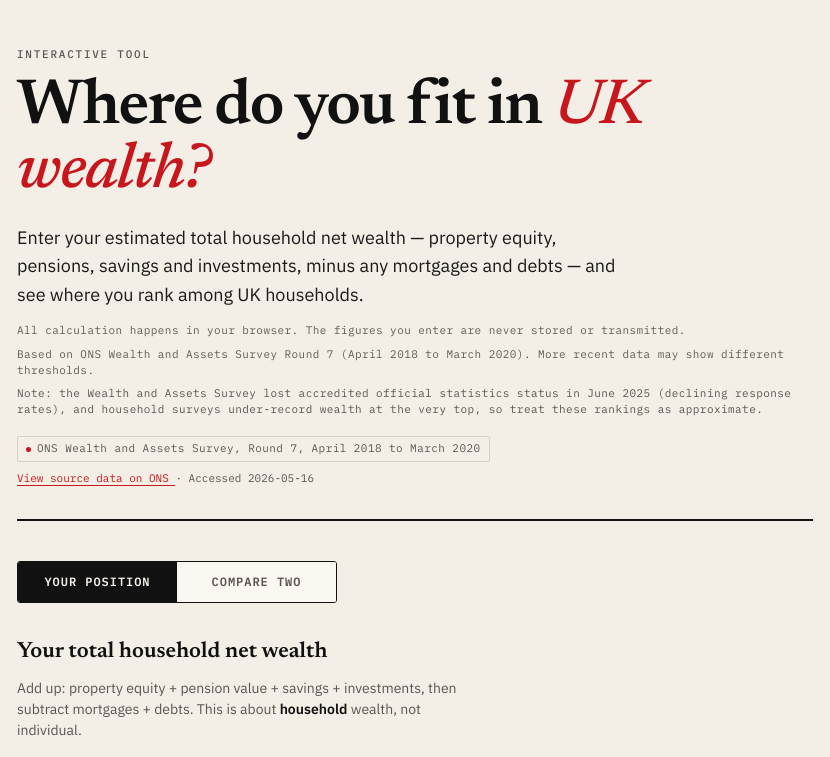
WealthCalculator — compare mode results › shows correct comparison summary for different deciles
The image size is (830, 757).
Click the tab with id "tab-compare": (256, 582) [177, 562, 336, 602]
(page scrolled)
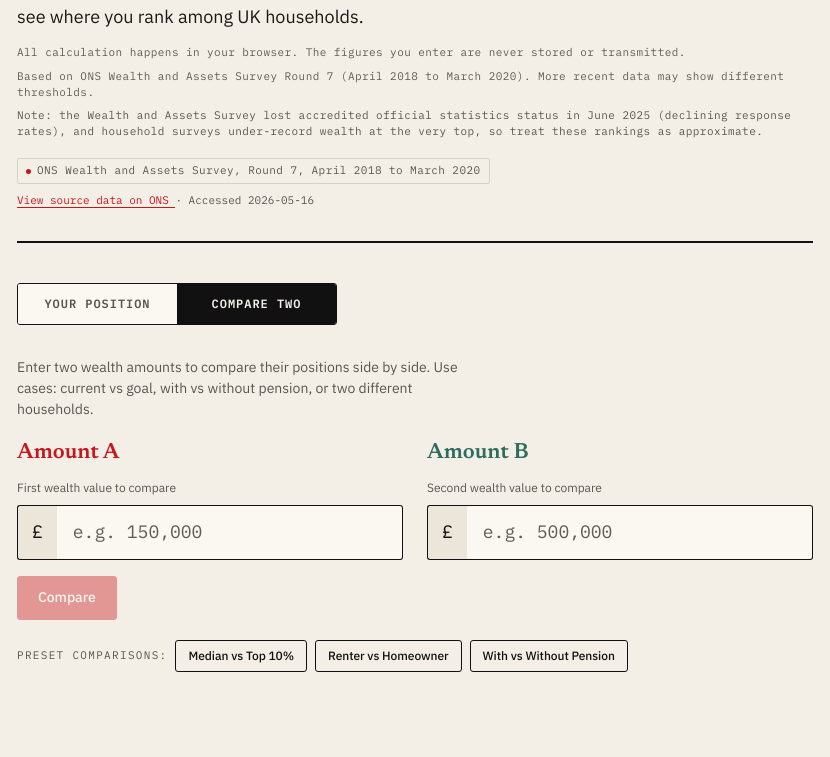
In the field with id "compare-input-a": (230, 532) [57, 505, 403, 560], type "100000"
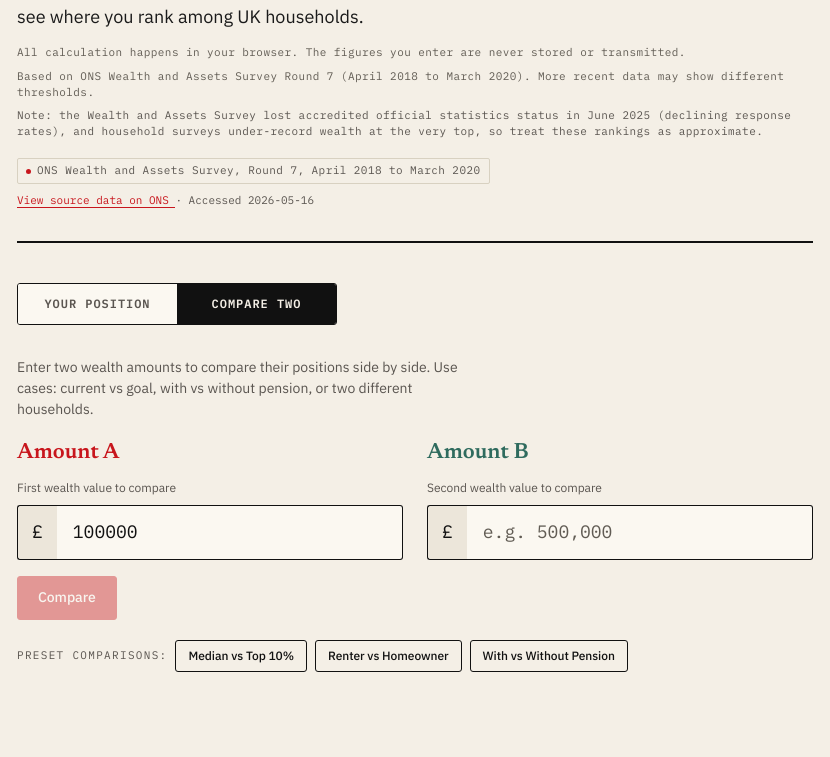
In the field with id "compare-input-b": (640, 532) [467, 505, 813, 560], type "500000"
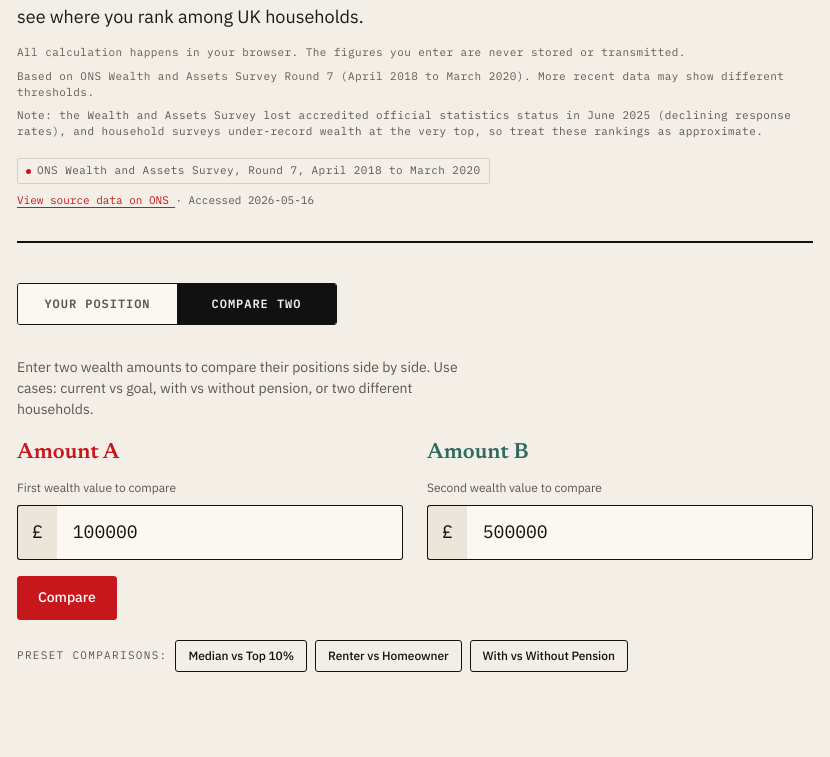
Click the button with class "calc__btn--compare": (67, 598) [17, 576, 117, 620]
(page scrolled)
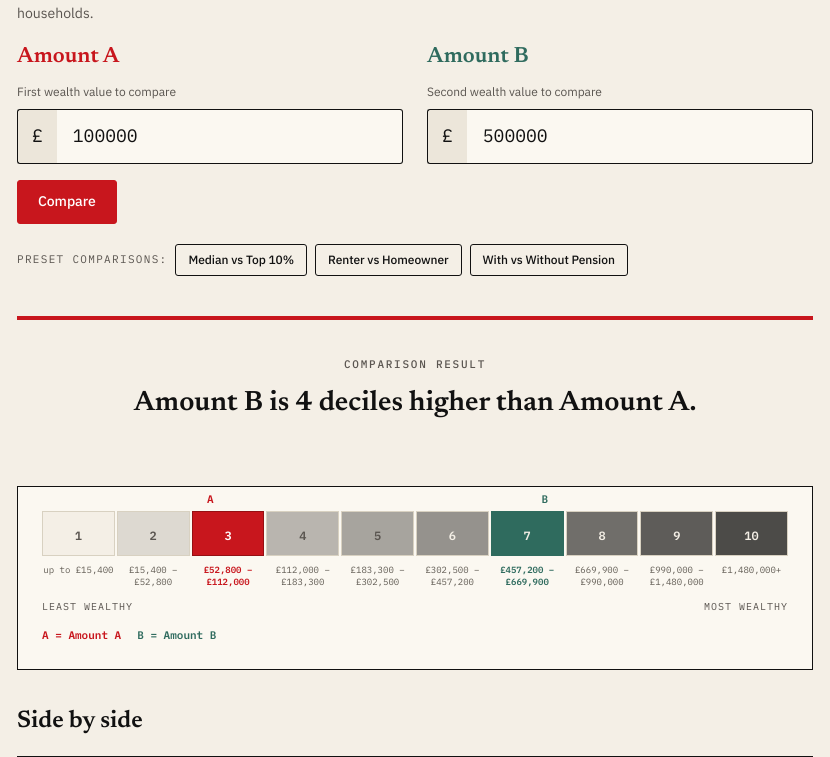
Check: the text with class "calc__compare-summary" shows "Amount B is 4 deciles higher than Amount A", box [134, 389, 696, 417]
